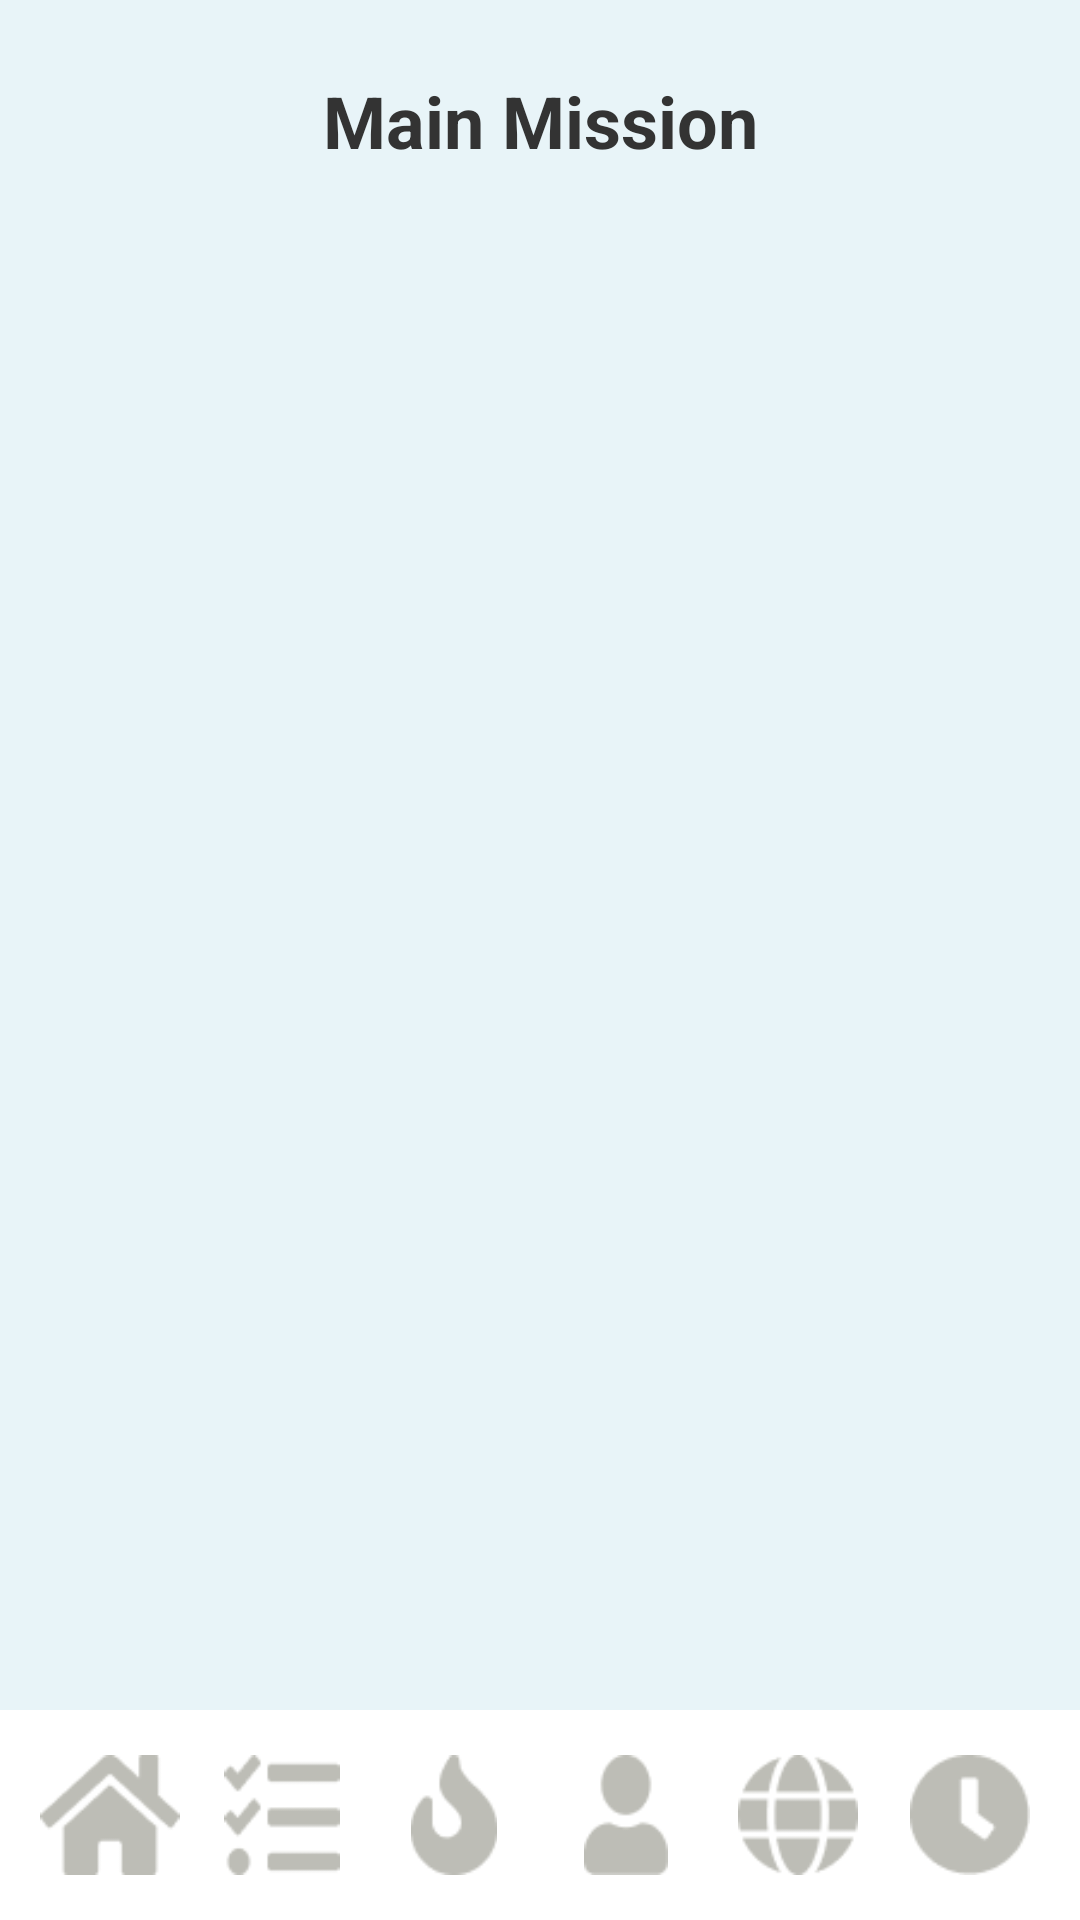

Icon bounding boxes for this 1080x1920 phone screenshot, format (x1,y1,x2,y2):
community: (738,1755,858,1875)
home: (40,1755,180,1875)
profile: (584,1755,668,1875)
streaks: (411,1755,497,1875)
tasks: (224,1755,340,1875)
timer: (910,1755,1030,1875)
